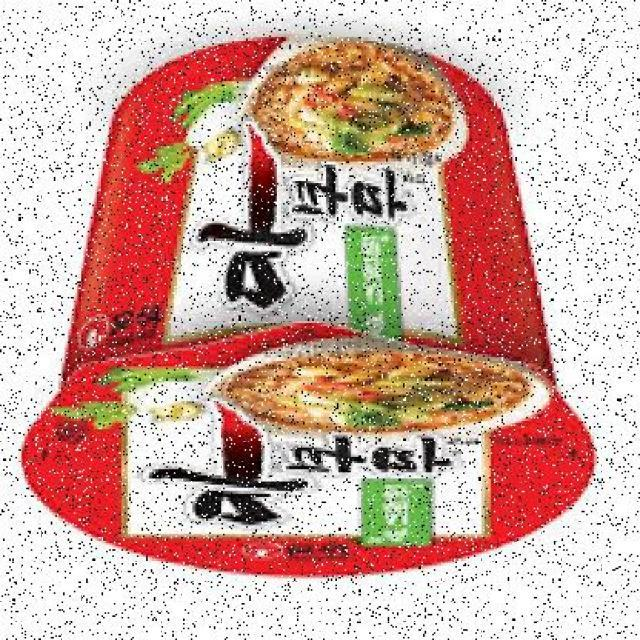Miscellaneous: (13, 41, 593, 584)
